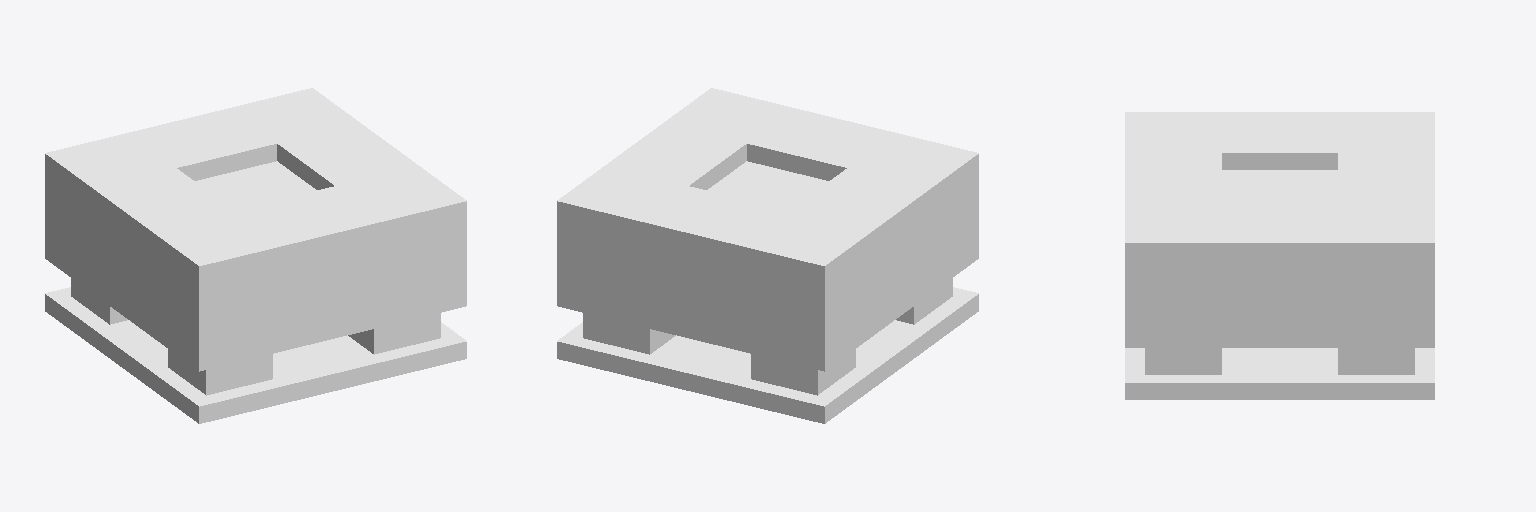
File: integration.obj
The picture shows the model from 3 angles: view 1: azimuth 30°, elevation 25°; view 2: azimuth 150°, elevation 25°; view 3: azimuth 270°, elevation 25°; orthographic projection.
Parts seen in each view (by area): view 1: Cube_Cube.001; view 2: Cube_Cube.001; view 3: Cube_Cube.001.
Boxes of the visible parts, box(x1,y1,x2,y2) form: Cube_Cube.001: box(45, 88, 466, 423); Cube_Cube.001: box(557, 88, 978, 423); Cube_Cube.001: box(1125, 112, 1434, 399).
Size of the model in its own units: 1 by 0.5625 by 1.